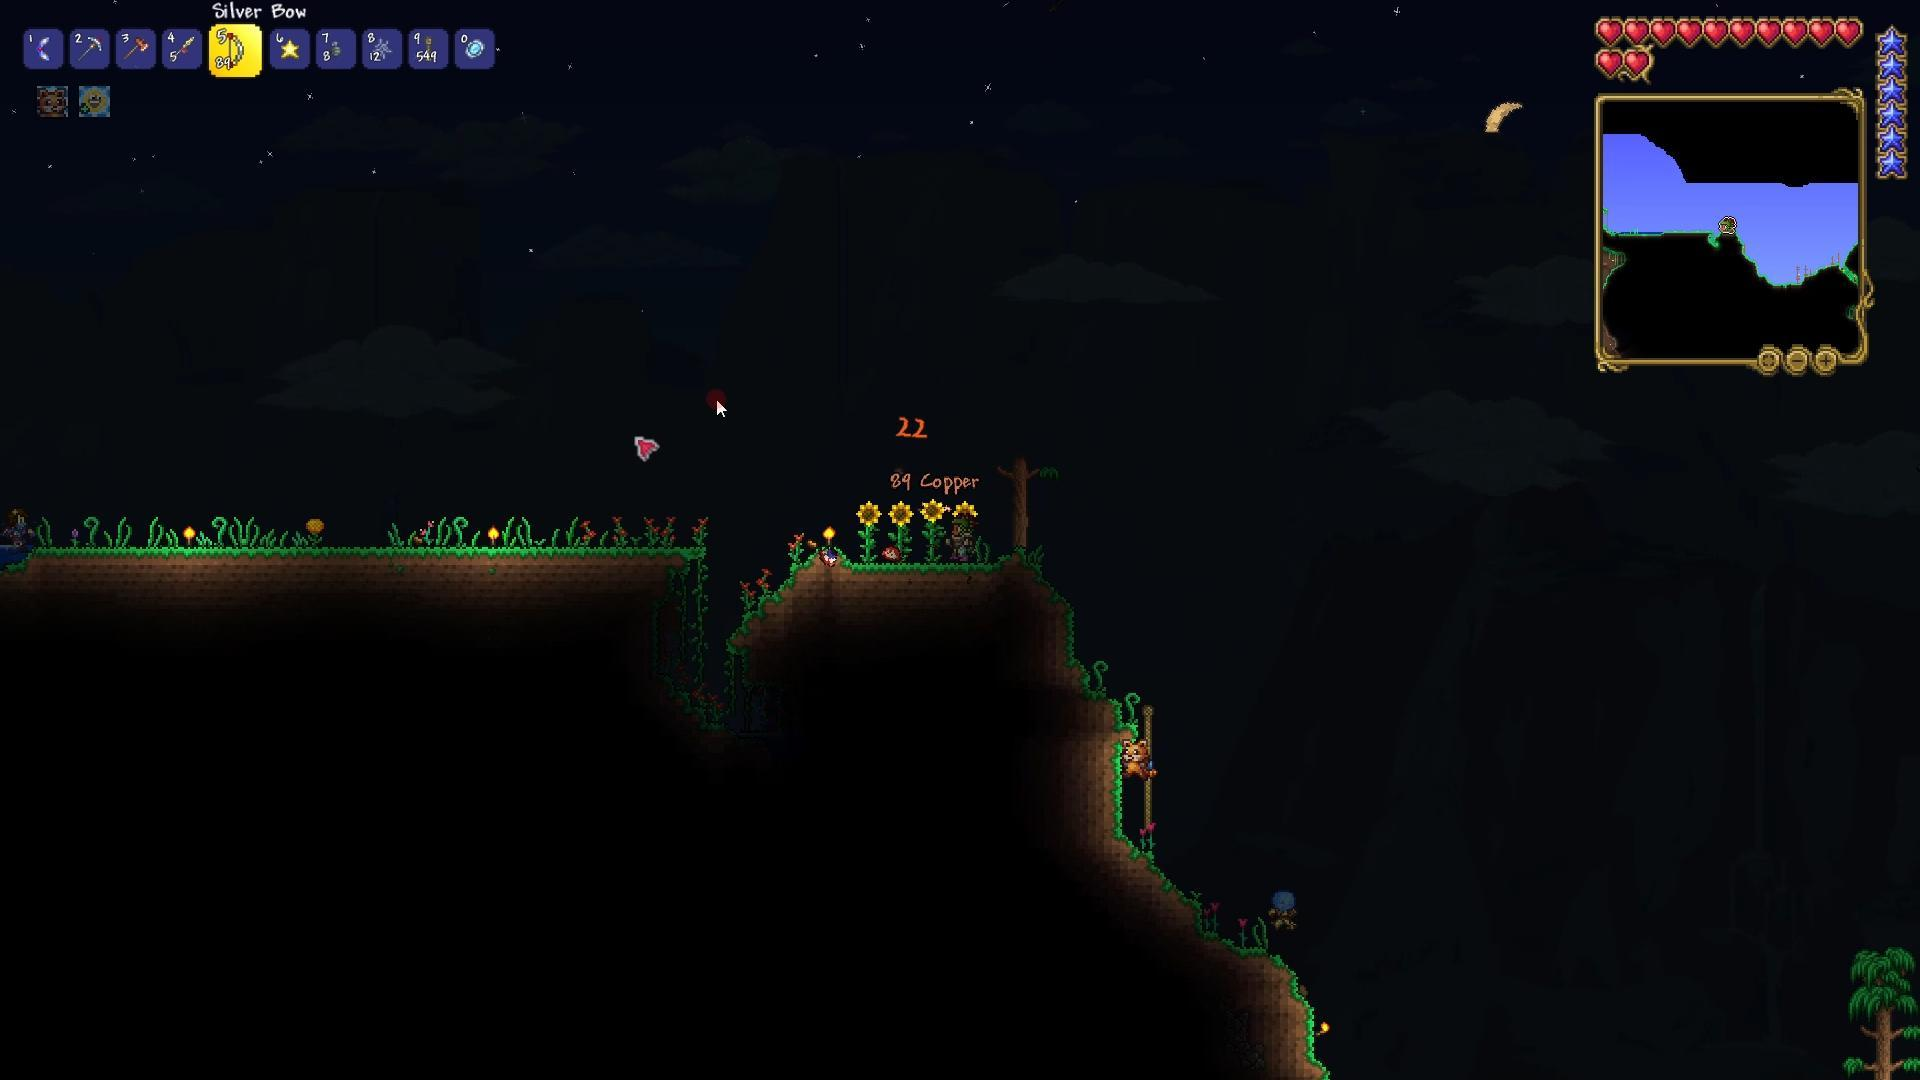dirt: (30, 537, 702, 570), (992, 550, 1106, 702), (727, 543, 835, 638), (1122, 836, 1217, 940), (1054, 715, 1130, 829), (1282, 960, 1332, 1080), (839, 558, 956, 576)
